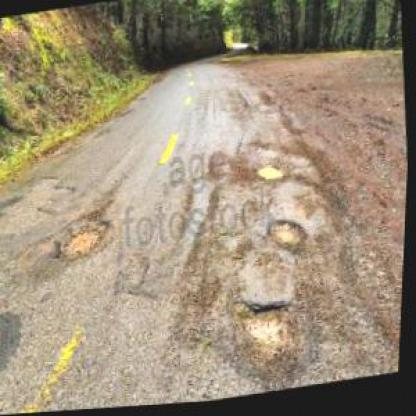pothole: (236, 296, 302, 364), (50, 215, 116, 265), (266, 216, 309, 262), (255, 162, 289, 189)
